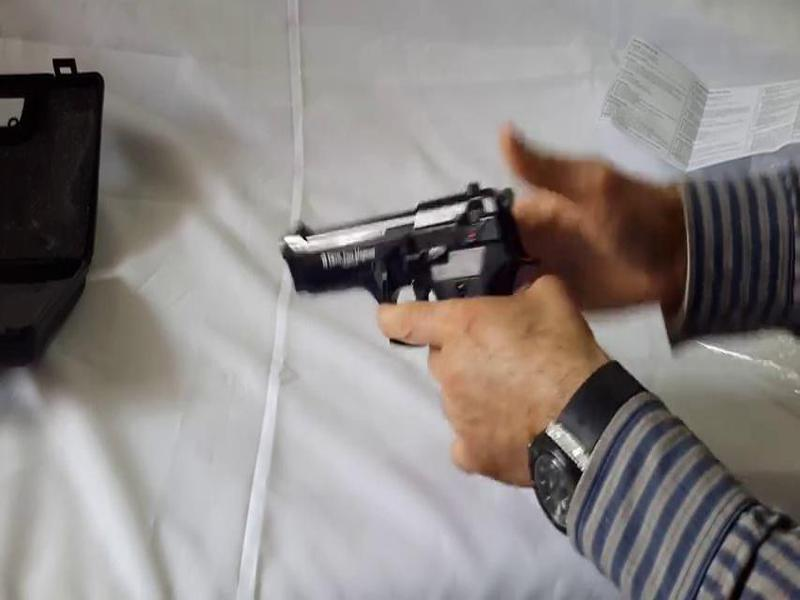Pistola: (272, 170, 546, 424)
